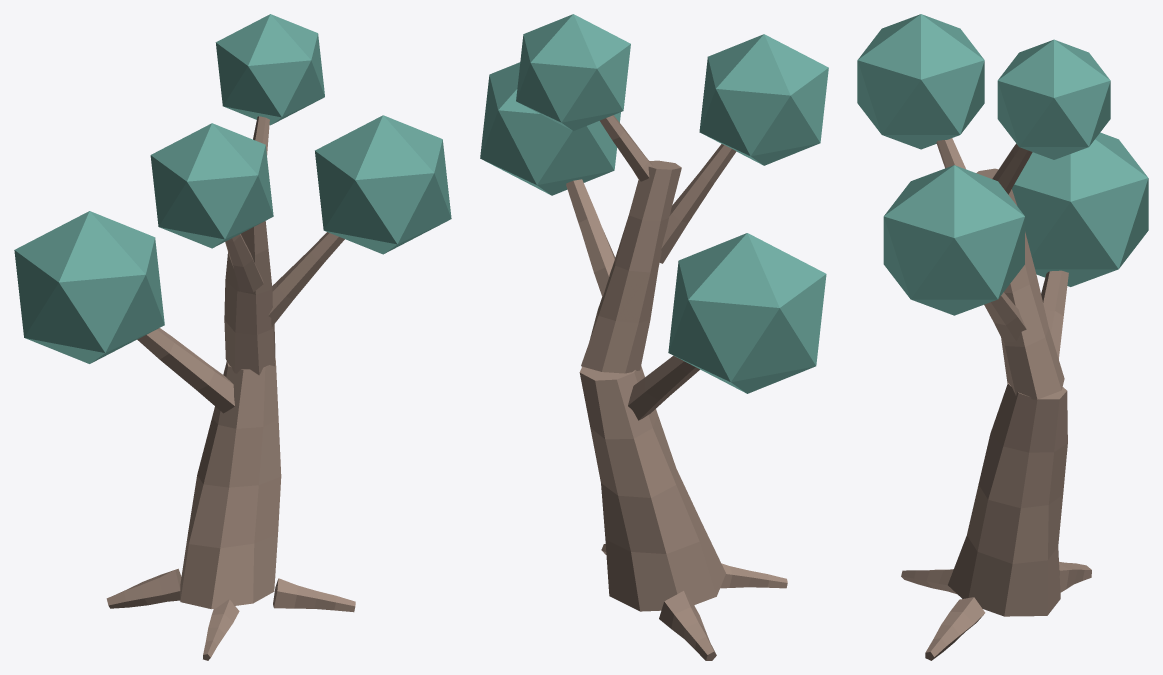
File: 08_OldOak_Merlin.glb
3 views of the same model, side by side, from view 1: azimuth 30°, elevation 25°; view 2: azimuth 150°, elevation 25°; view 3: azimuth 270°, elevation 25° (orthographic). The views are drawn at different scales.
Visible parts, largest first — view 1: OldOak_Trunk, OldOak_Foliage1, OldOak_Foliage2, OldOak_Foliage3, OldOak_Foliage4, OldOak_TrunkTop, OldOak_Branch1, OldOak_Branch2, OldOak_Root1, OldOak_Root2, OldOak_Branch3, OldOak_Root3; view 2: OldOak_Trunk, OldOak_Foliage1, OldOak_Foliage3, OldOak_Foliage4, OldOak_TrunkTop, OldOak_Foliage2, OldOak_Branch3, OldOak_Branch2, OldOak_Branch1, OldOak_Root1, OldOak_Branch4, OldOak_Root3; view 3: OldOak_Trunk, OldOak_Foliage2, OldOak_Foliage1, OldOak_Foliage3, OldOak_Foliage4, OldOak_TrunkTop, OldOak_Root2, OldOak_Branch1, OldOak_Branch2, OldOak_Branch4, OldOak_Root3, OldOak_Root1 (+1 smaller).
Boxes of the visible parts, bbox=[...] form: OldOak_Trunk: bbox=[179, 358, 281, 609]; OldOak_Foliage1: bbox=[14, 211, 164, 363]; OldOak_Foliage2: bbox=[315, 115, 451, 254]; OldOak_Foliage3: bbox=[150, 123, 273, 248]; OldOak_Foliage4: bbox=[215, 14, 324, 125]; OldOak_TrunkTop: bbox=[224, 221, 275, 375]; OldOak_Branch1: bbox=[137, 328, 234, 413]; OldOak_Branch2: bbox=[268, 232, 344, 326]; OldOak_Root1: bbox=[106, 568, 181, 608]; OldOak_Root2: bbox=[273, 578, 355, 612]; OldOak_Branch3: bbox=[225, 234, 263, 292]; OldOak_Root3: bbox=[203, 599, 239, 660]; OldOak_Trunk: bbox=[579, 366, 725, 611]; OldOak_Foliage1: bbox=[668, 233, 826, 393]; OldOak_Foliage3: bbox=[699, 34, 828, 165]; OldOak_Foliage4: bbox=[516, 14, 630, 130]; OldOak_TrunkTop: bbox=[581, 160, 681, 373]; OldOak_Foliage2: bbox=[480, 62, 620, 195]; OldOak_Branch3: bbox=[659, 144, 736, 263]; OldOak_Branch2: bbox=[566, 179, 615, 297]; OldOak_Branch1: bbox=[628, 355, 699, 420]; OldOak_Root1: bbox=[659, 591, 716, 660]; OldOak_Branch4: bbox=[600, 115, 652, 181]; OldOak_Root3: bbox=[720, 563, 787, 588]; OldOak_Trunk: bbox=[948, 383, 1067, 616]; OldOak_Foliage2: bbox=[883, 165, 1024, 315]; OldOak_Foliage1: bbox=[1012, 132, 1148, 286]; OldOak_Foliage3: bbox=[857, 14, 984, 149]; OldOak_Foliage4: bbox=[997, 39, 1110, 159]; OldOak_TrunkTop: bbox=[976, 168, 1064, 399]; OldOak_Root2: bbox=[925, 597, 985, 660]; OldOak_Branch1: bbox=[1041, 270, 1068, 359]; OldOak_Branch2: bbox=[984, 292, 1026, 342]; OldOak_Branch4: bbox=[992, 143, 1032, 194]; OldOak_Root3: bbox=[901, 569, 956, 593]; OldOak_Root1: bbox=[1059, 561, 1091, 592].
Size of the model in its own units: 2.74 by 4.09 by 1.75.
